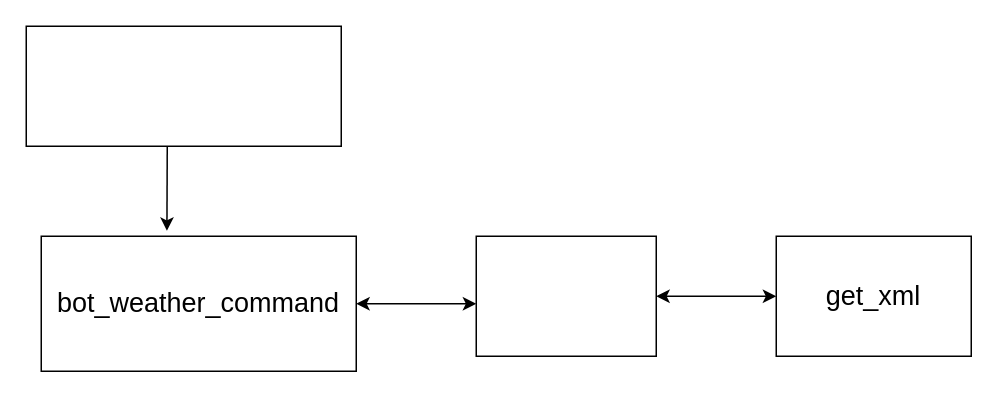
Some shapes in this 998 by 398 pixel diagram are drawn without their labels. Each missing label, with the centre of its shape:
"main_weather" belongs at [183,85].
"parse weather" belongs at [565,295].
